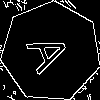A: (25, 27, 80, 76)
